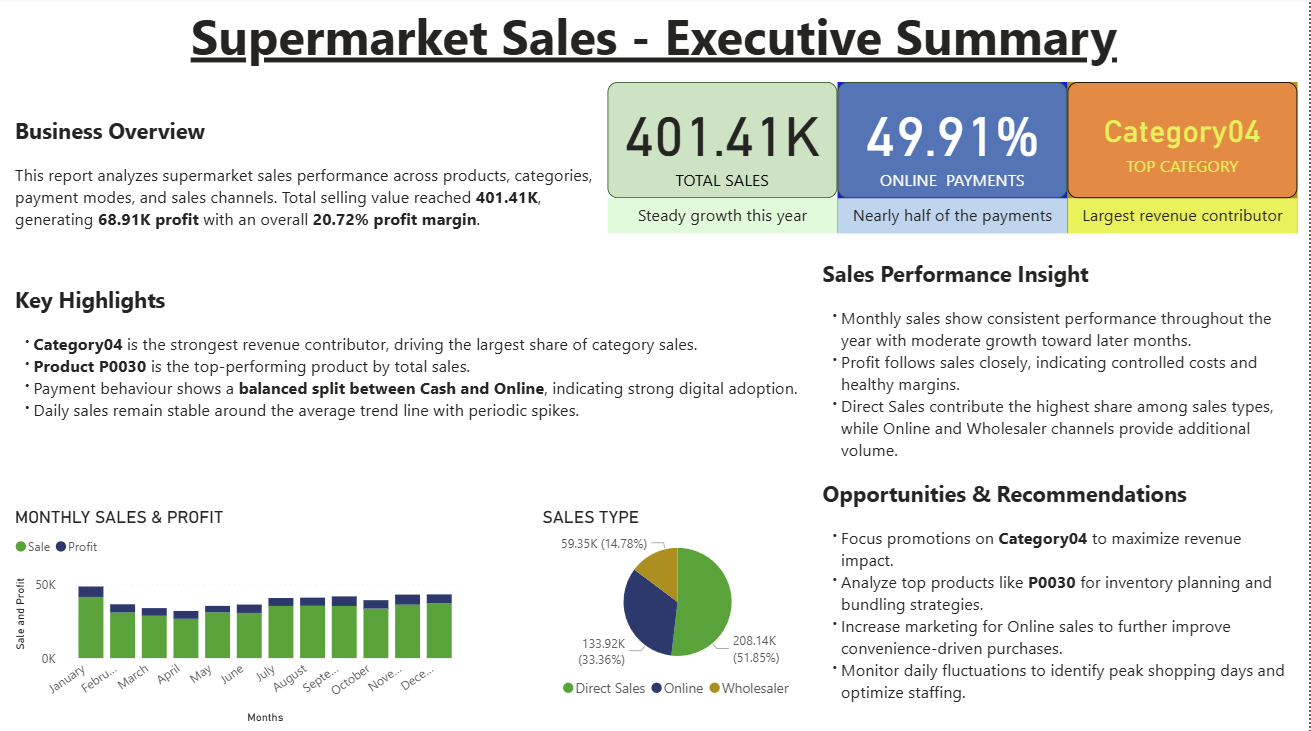

What the dashboard file says about the page in this screenshot:
{"tool":"powerbi","page":{"name":"Page 2","canvas":[1280,720],"ordinal":1},"visuals":[{"type":"textbox","box":[9.6,0,1259.7,96.1],"z":0},{"type":"card","fields":{"Values":["Sum(InputData.TOTAL SELLING VALUE)"]},"box":[594.2,83.7,225,113.9],"z":0,"group":"g1"},{"type":"card","fields":{"Values":["InputData.% Online Payment"]},"box":[819.2,83.7,225,113.9],"z":0,"group":"g2"},{"type":"textbox","box":[9.6,111.1,584.6,155.1],"z":1000},{"type":"textbox","box":[594.2,197.6,225,34.3],"z":1000,"group":"g1"},{"type":"textbox","box":[819.2,197.6,225,34.3],"z":1000,"group":"g2"},{"type":"textbox","box":[1044.3,197.6,225,34.3],"z":1000,"group":"g3"},{"type":"group","id":"g1","title":"Group 1","box":[594.2,83.7,225,148.2],"z":2000,"group":"g5"},{"type":"group","id":"g2","title":"Group 1","box":[819.2,83.7,225,148.2],"z":3000,"group":"g5"},{"type":"group","id":"g3","title":"Group 1","box":[1044.3,197.6,225,34.3],"z":4000,"group":"g4"},{"type":"card","fields":{"Values":["Min(InputData.MasterData.CATEGORY)"]},"box":[1044.3,83.7,225,113.9],"z":5000,"group":"g4"},{"type":"group","id":"g4","title":"Group 2","box":[1044.3,83.7,225,148.2],"z":5001,"group":"g6"},{"type":"textbox","box":[9.6,275.8,837.1,201.7],"z":5002},{"type":"textbox","box":[800,251.1,469.3,465.2],"z":5003},{"type":"columnChart","title":"MONTHLY SALES & PROFIT","fields":{"Category":["InputData.Month Name"],"Y":["Sum(InputData.TOTAL SELLING VALUE)","InputData.PROFIT"]},"box":[9.6,499.5,450.1,216.8],"z":5004},{"type":"pieChart","title":"SALES TYPE","fields":{"Y":["Sum(InputData.TOTAL SELLING VALUE)"],"Category":["InputData.SALE TYPE"]},"box":[525.6,499.5,274.4,196.2],"z":5005},{"type":"group","id":"g5","title":"Group 3","box":[594.2,83.7,450.1,148.2],"z":5006,"group":"g6"},{"type":"group","id":"g6","title":"Group 4","box":[594.2,83.7,675.1,148.2],"z":5007}]}

Visuals, with their boxes in screenshot pixels (x1, y1, x2, y2), scaled from the page's 1280x720 canvas onto the 1311x731 screenshot:
textbox: [left=10, top=0, right=1300, bottom=98]
card - Sum(InputData.TOTAL SELLING VALUE): [left=609, top=85, right=839, bottom=201]
card - InputData.% Online Payment: [left=839, top=85, right=1069, bottom=201]
textbox: [left=10, top=113, right=609, bottom=270]
textbox: [left=609, top=201, right=839, bottom=235]
textbox: [left=839, top=201, right=1069, bottom=235]
textbox: [left=1070, top=201, right=1300, bottom=235]
"Group 1" group: [left=609, top=85, right=839, bottom=235]
"Group 1" group: [left=839, top=85, right=1069, bottom=235]
"Group 1" group: [left=1070, top=201, right=1300, bottom=235]
card - Min(InputData.MasterData.CATEGORY): [left=1070, top=85, right=1300, bottom=201]
"Group 2" group: [left=1070, top=85, right=1300, bottom=235]
textbox: [left=10, top=280, right=867, bottom=485]
textbox: [left=819, top=255, right=1300, bottom=727]
"MONTHLY SALES & PROFIT" columnChart: [left=10, top=507, right=471, bottom=727]
"SALES TYPE" pieChart: [left=538, top=507, right=819, bottom=706]
"Group 3" group: [left=609, top=85, right=1070, bottom=235]
"Group 4" group: [left=609, top=85, right=1300, bottom=235]
